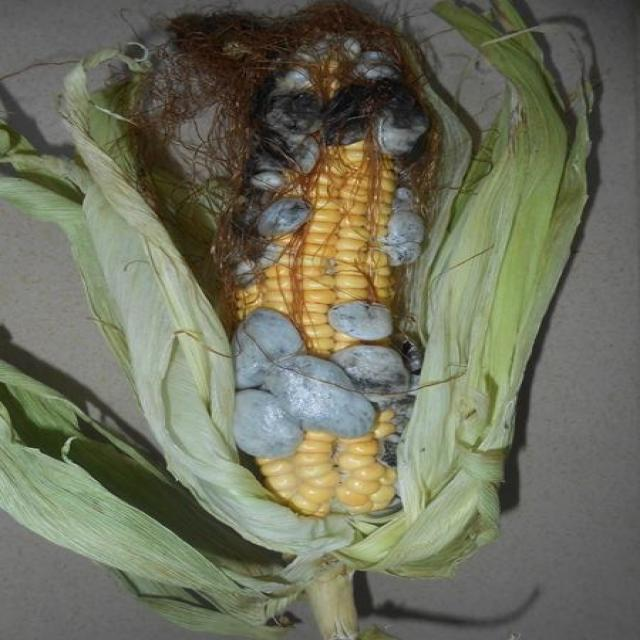Leaf_Scald: (55, 0, 584, 595)
